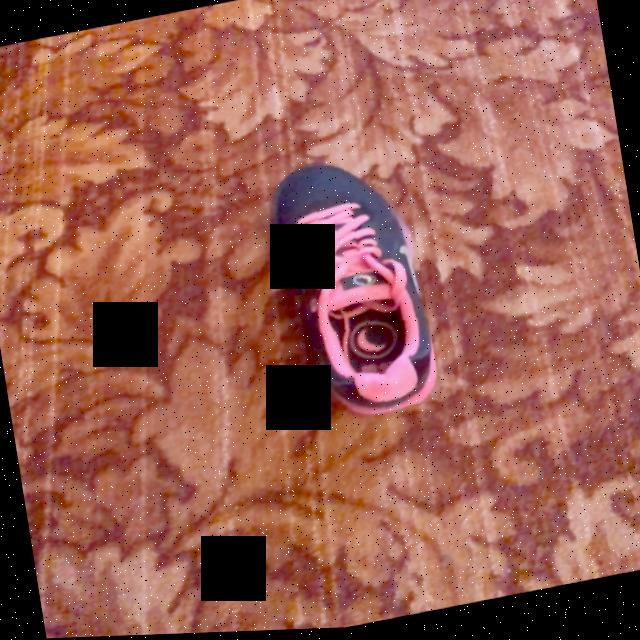shoe: (270, 166, 437, 415)
